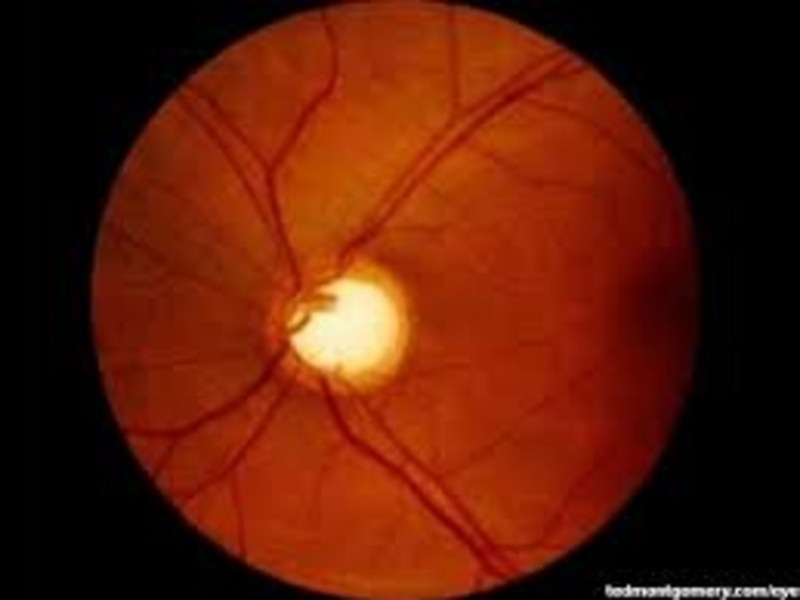Optic Cup: (285, 274, 398, 370)
Optic Disc: (263, 252, 421, 394)
